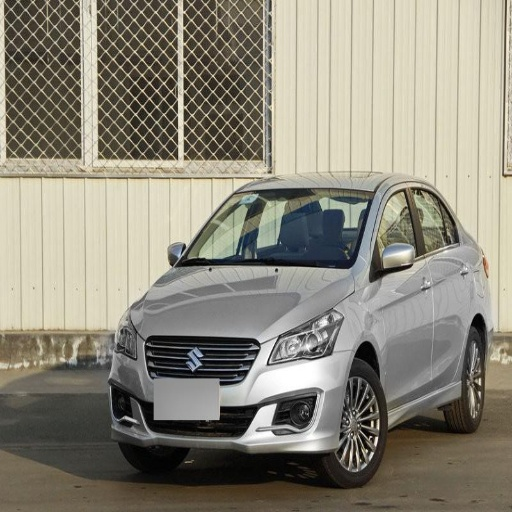front_bumper: (111, 328, 351, 448)
front_glass: (176, 189, 369, 268)
front_left_door: (374, 182, 434, 408)
